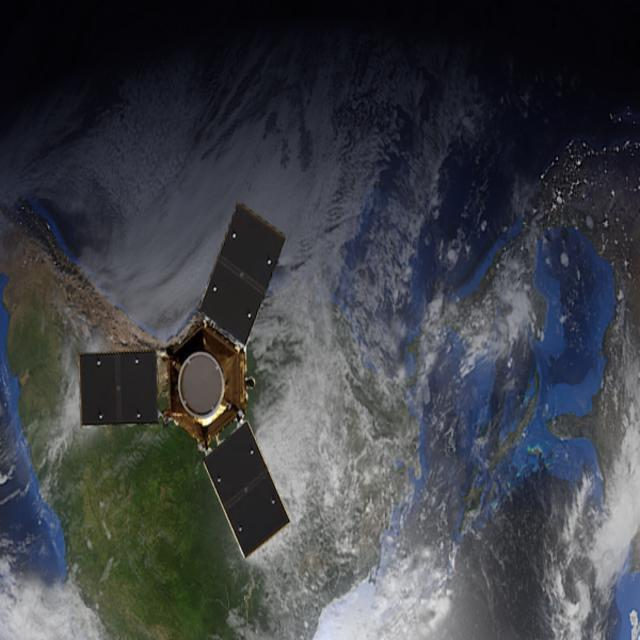satellite: (72, 190, 296, 561)
